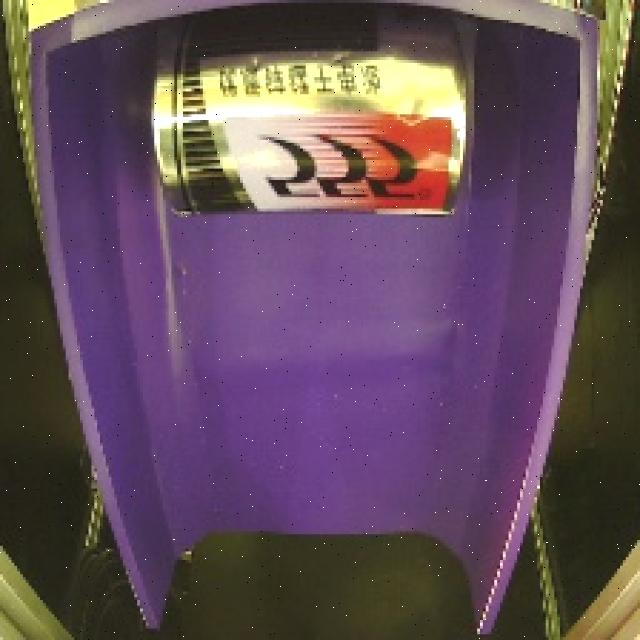battery: (139, 0, 475, 236)
